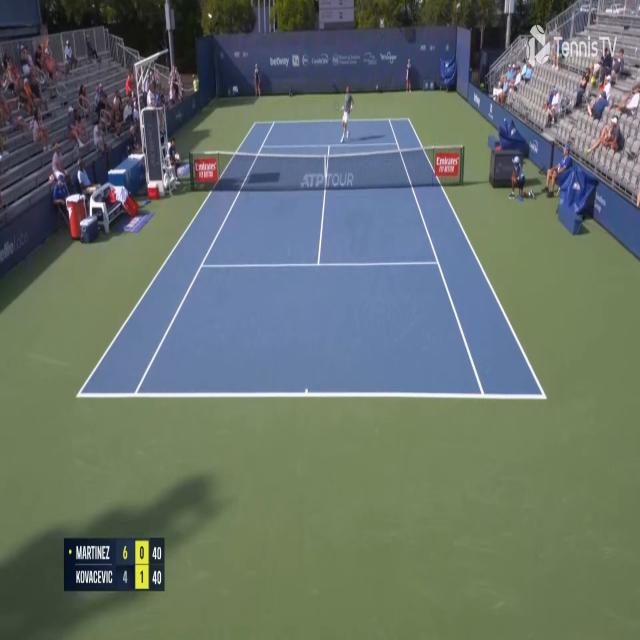tennis-player: (335, 84, 354, 145)
